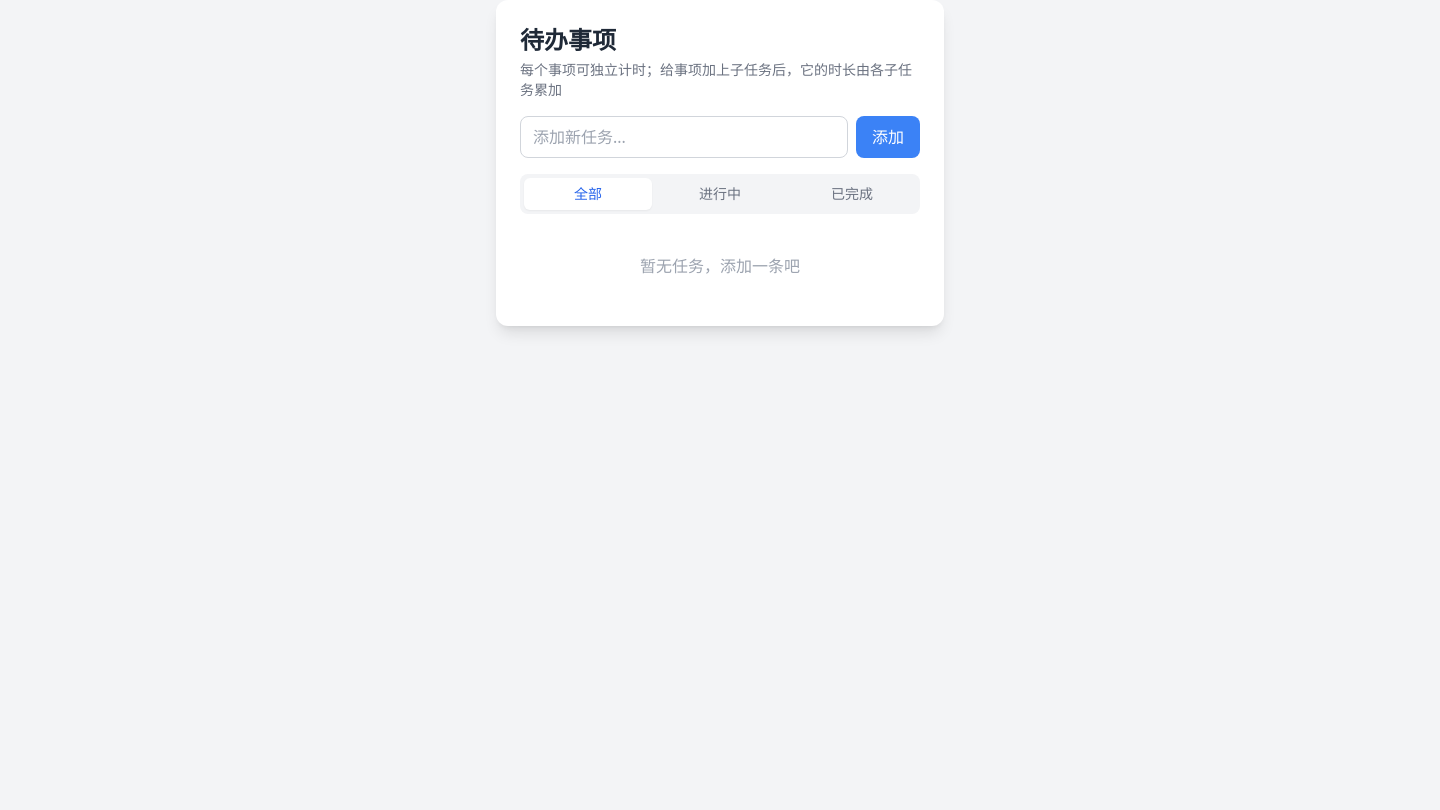
Test case: 删除合集会连子任务一起删掉
Step 1. Type "408" into the field with placeholder "添加新任务..." → [684, 137], box [520,116,848,158]
Then press Enter
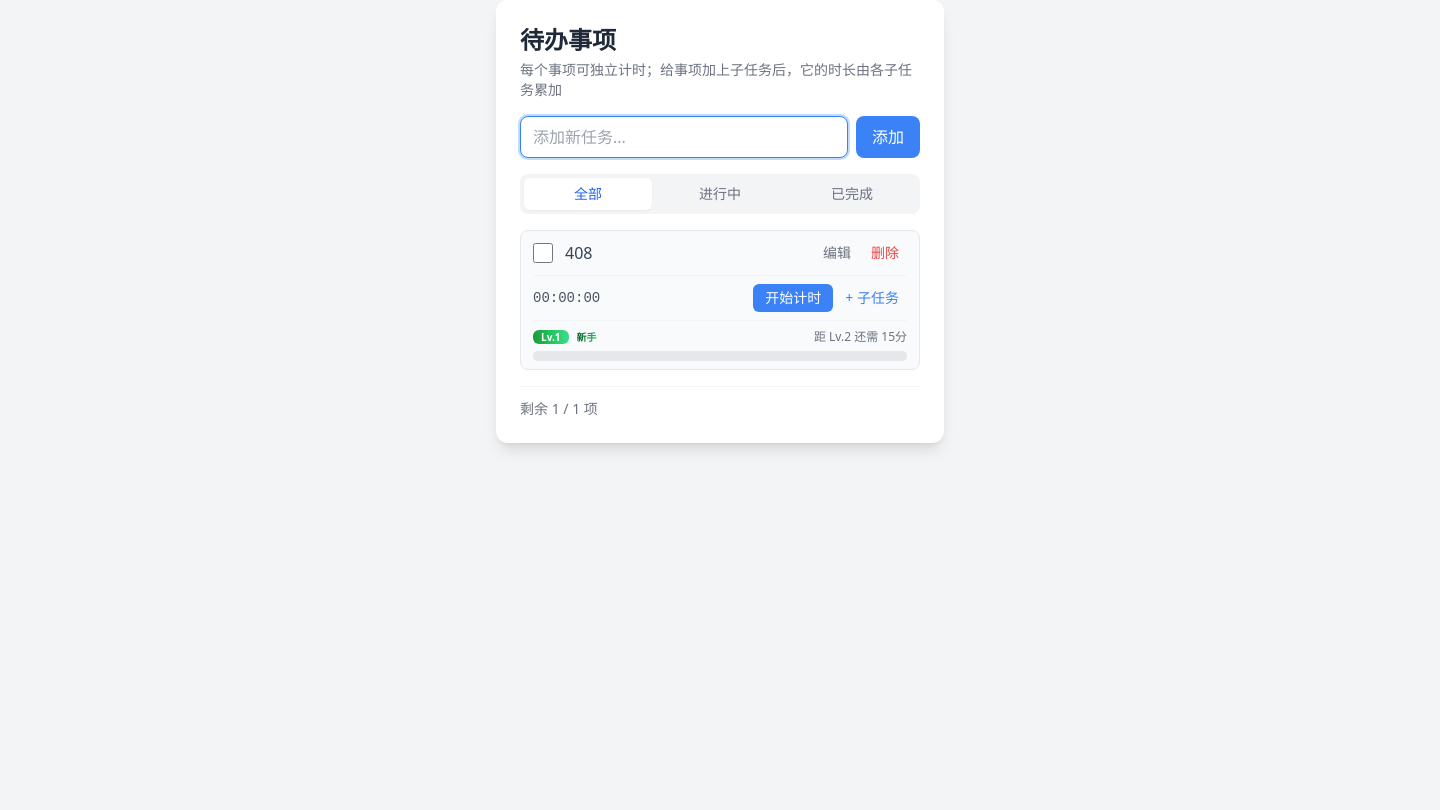
Check: the text "408" is shown, box [565,242,592,264]
Step 2. Click the button with aria-label "添加子任务" → [872, 298], box [837,284,907,312]
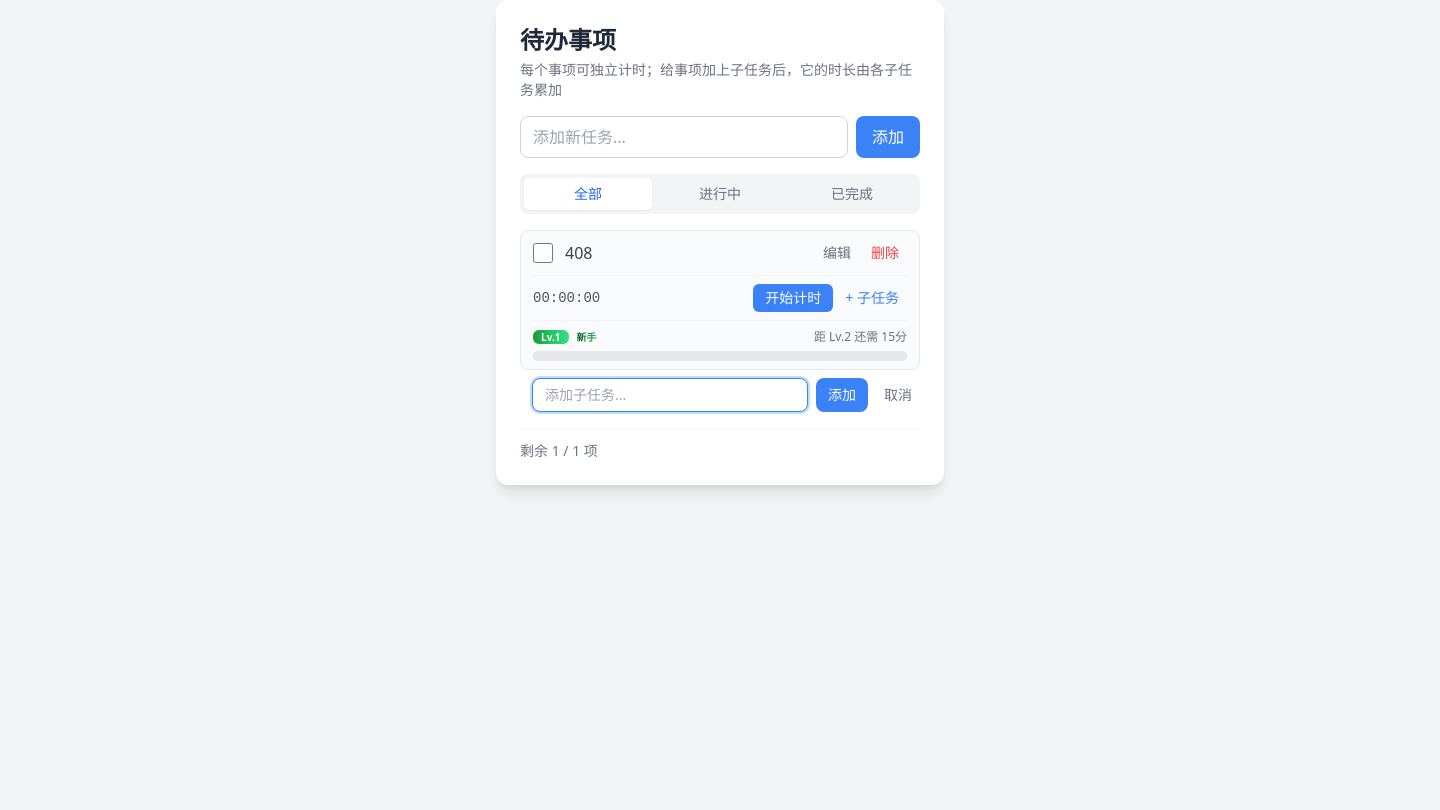
Step 3. Type "操作系统" into the field with placeholder "添加子任务..." → [670, 395], box [532,378,808,412]
Then press Enter
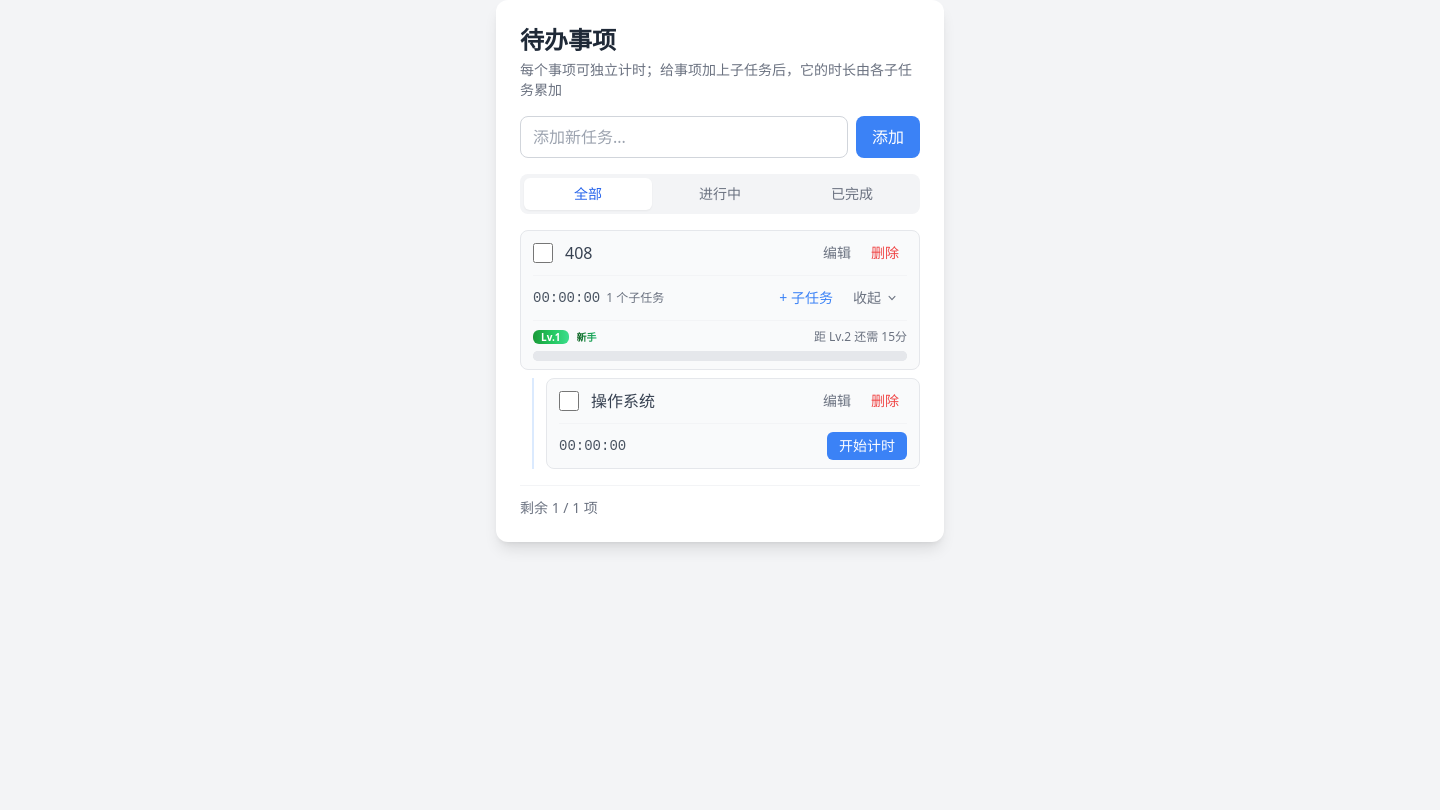
Check: the text "操作系统" is shown, box [591,390,655,412]
Step 4. Click the button with aria-label "删除任务" → [885, 253], box [863,239,907,267]
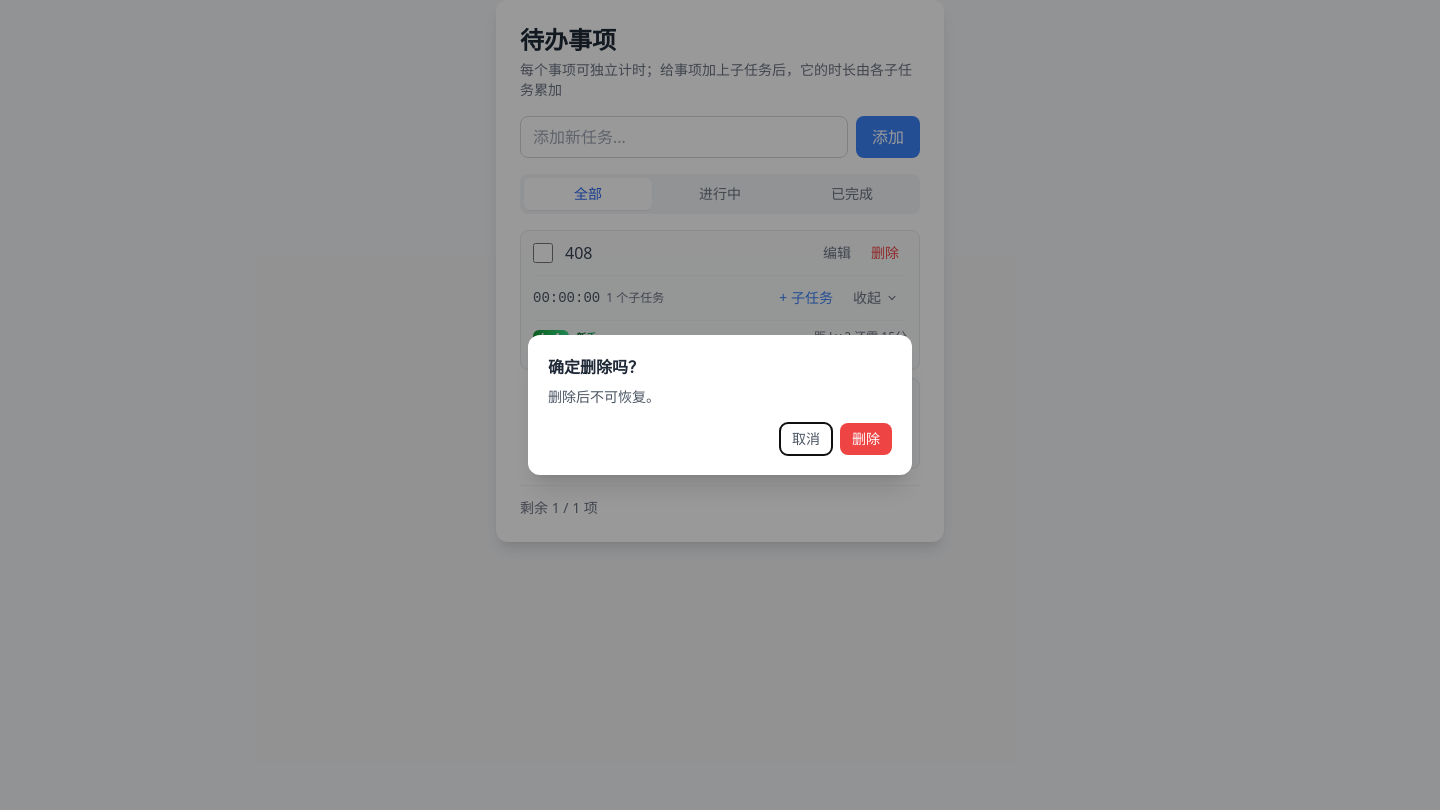
Check: the dialog is shown, box [528,335,912,475]
Step 5. Click the button "删除" → [866, 439], box [840,423,892,455]
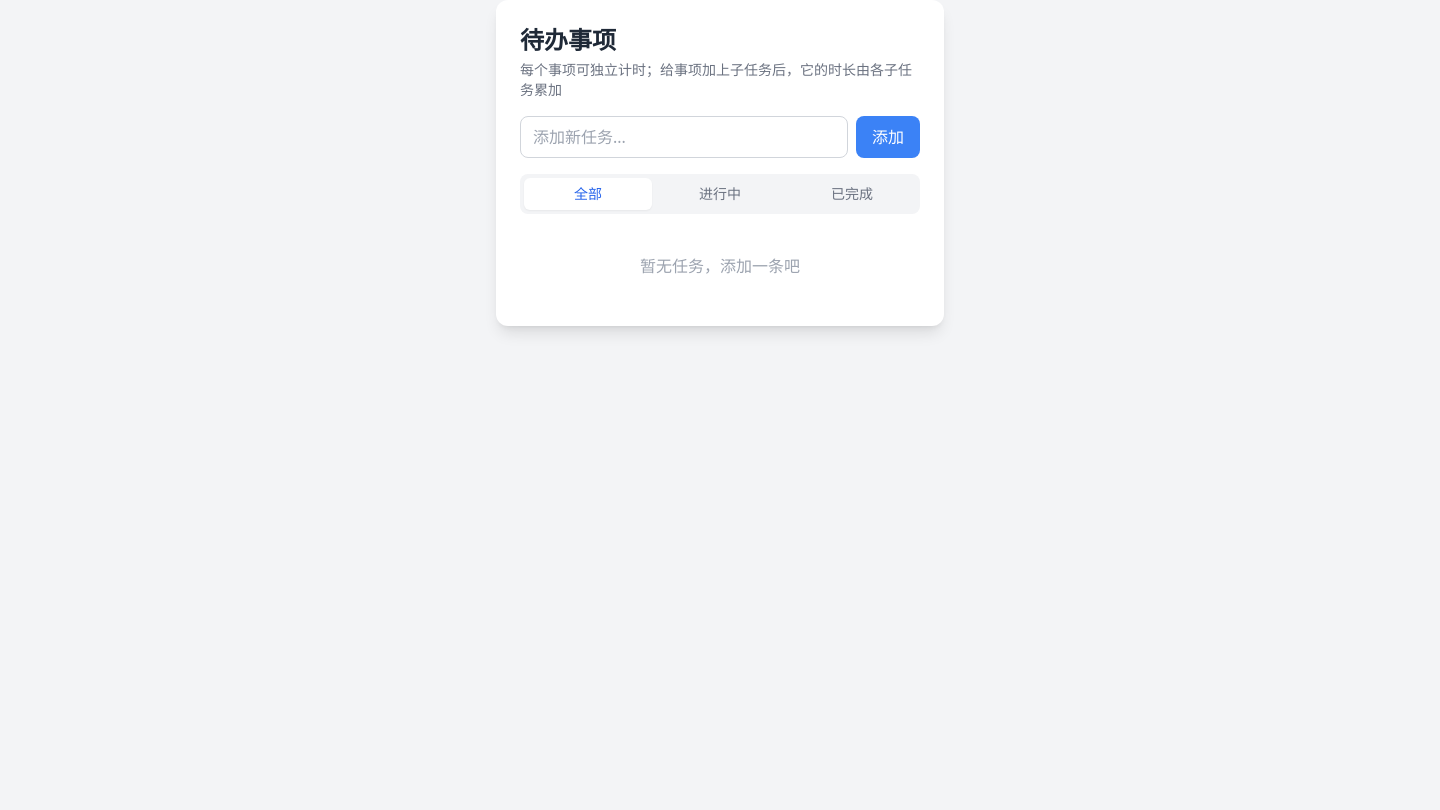
Check: the text "408" is gone
Check: the text "操作系统" is gone
